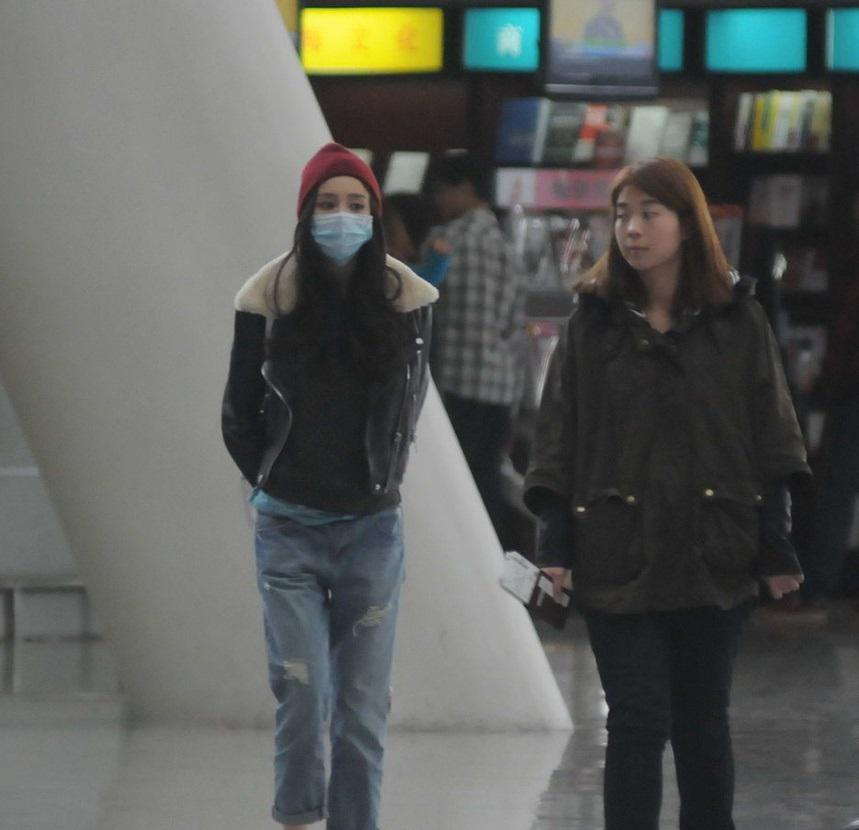NONE: (614, 205, 679, 271)
OK: (306, 189, 372, 255)
